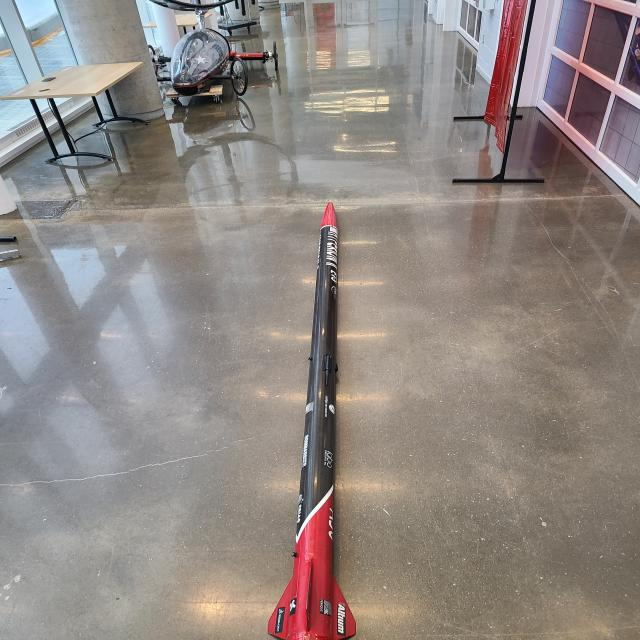Rocket: (268, 200, 356, 640)
